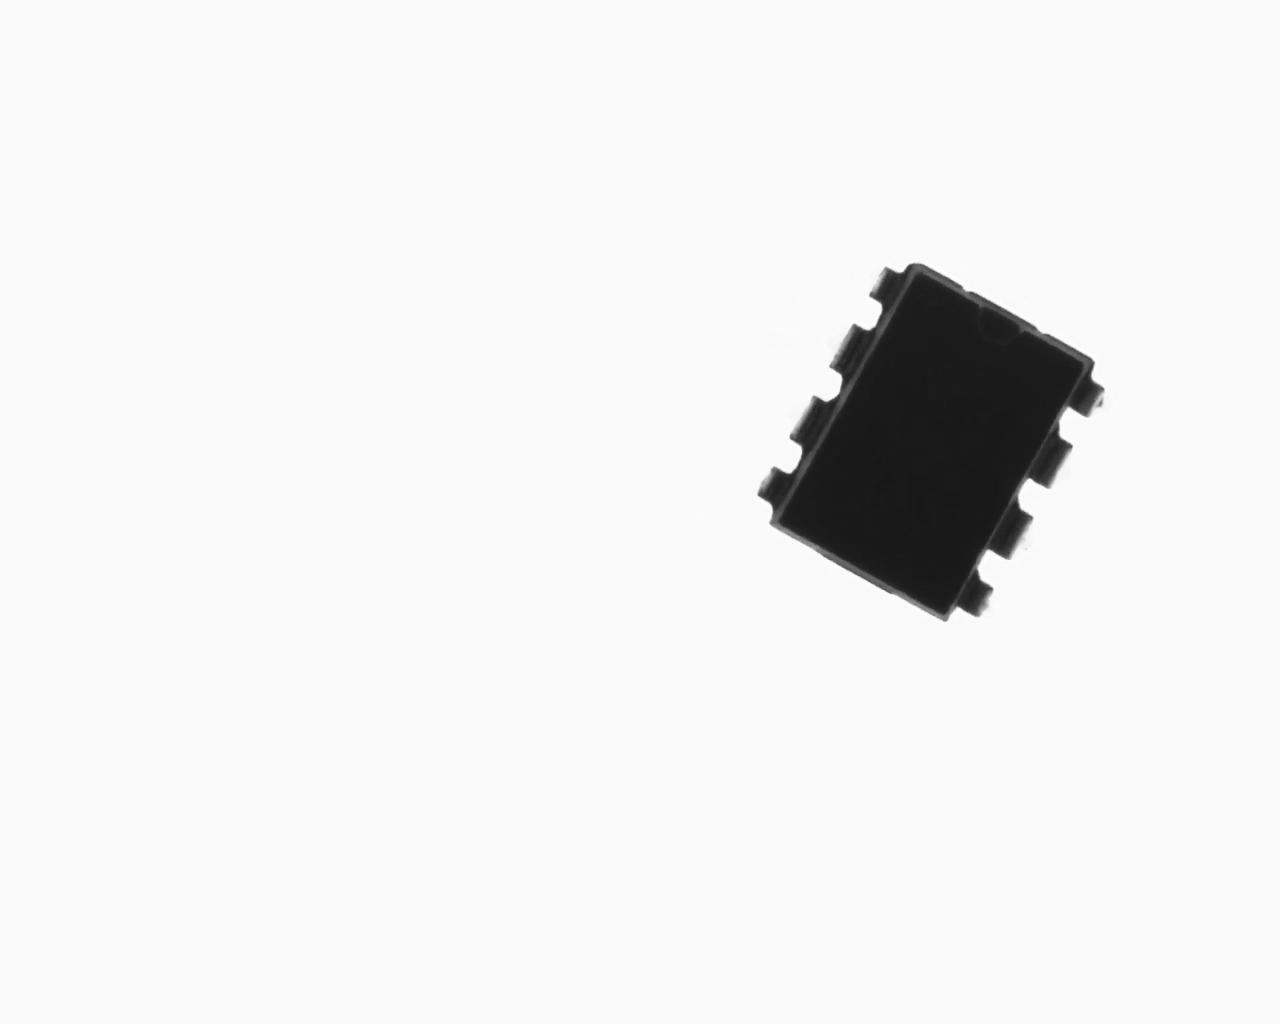Leg: (991, 505, 1040, 565), (820, 325, 875, 379), (1030, 438, 1078, 491), (781, 394, 830, 445), (1066, 376, 1112, 428), (955, 576, 1000, 621), (861, 257, 899, 305), (753, 468, 794, 504)
